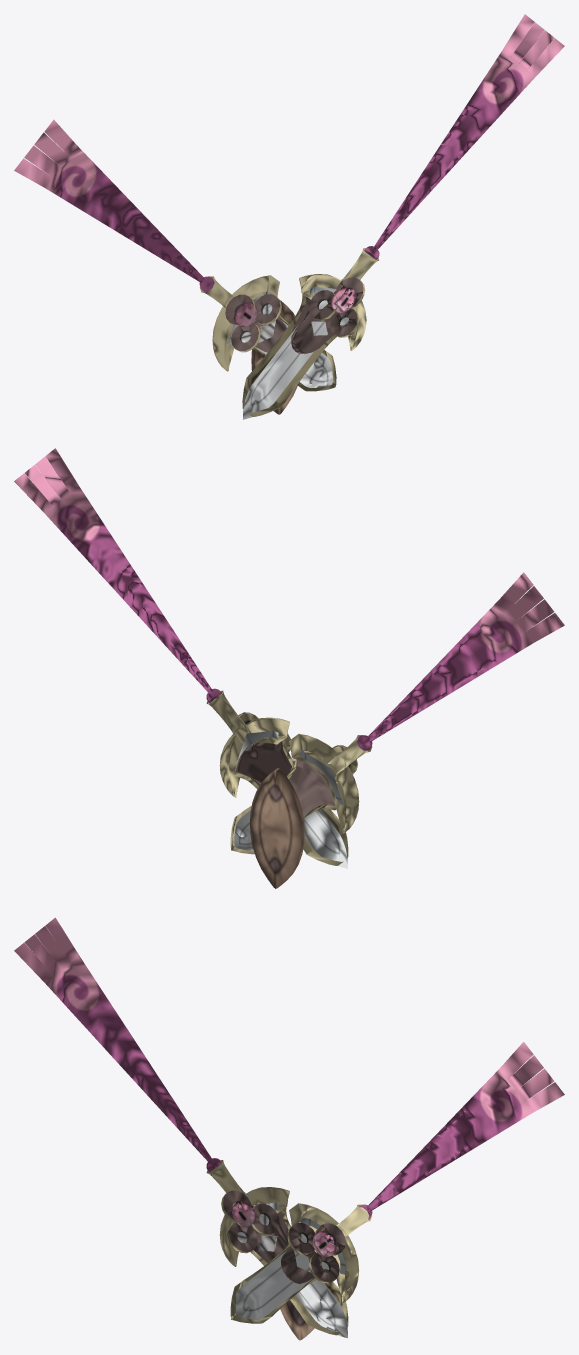
Rendered from 680-doublade.gltf.
3 renders of one model, top to bottom at view 1: azimuth 30°, elevation 25°; view 2: azimuth 150°, elevation 25°; view 3: azimuth 330°, elevation 25°, orthographic. The views are drawn at different scales.
Parts seen in each view (by area): view 1: DoubladeLeft, DoubladeRight, DoubladeLeftSword, DoubladeRightSword, Doublade; view 2: DoubladeLeft, DoubladeRight, Doublade, DoubladeLeftSword, DoubladeRightSword; view 3: DoubladeRight, DoubladeLeft, DoubladeLeftSword, DoubladeRightSword, Doublade.
Part boxes in pixels (x1,y1,x2,y2): DoubladeLeft: (242, 14, 564, 416); DoubladeRight: (14, 119, 336, 391); DoubladeLeftSword: (243, 286, 354, 419); DoubladeRightSword: (226, 289, 335, 387); Doublade: (251, 300, 297, 414); DoubladeLeft: (14, 448, 348, 865); DoubladeRight: (230, 572, 564, 854); Doublade: (250, 767, 304, 888); DoubladeLeftSword: (234, 725, 347, 868); DoubladeRightSword: (231, 748, 346, 850); DoubladeRight: (14, 917, 348, 1335); DoubladeLeft: (230, 1042, 564, 1323); DoubladeLeftSword: (231, 1217, 345, 1320); DoubladeRightSword: (232, 1201, 347, 1338); Doublade: (280, 1300, 314, 1340).
Bounding box in the file's own units: 237 × 149 × 19.29.
3 materials, 3 textured.
